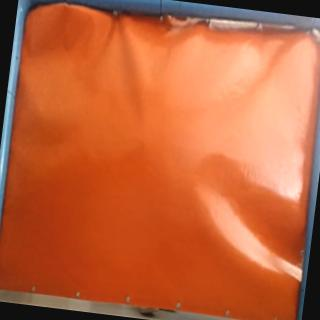Hit-hRxx: (134, 136, 153, 150)
